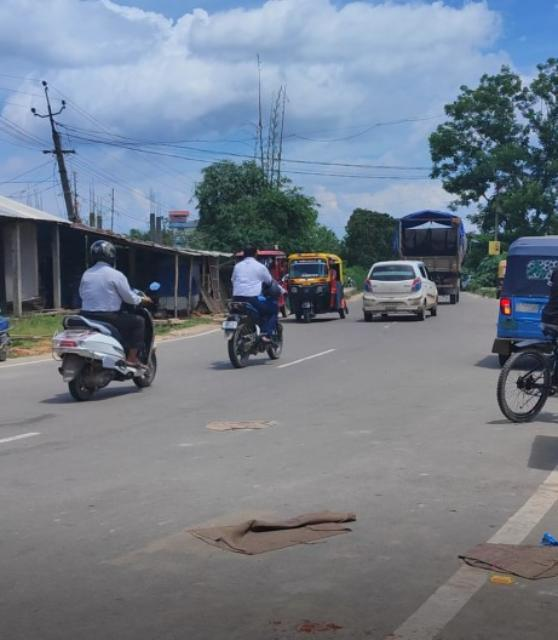licensePlate: (220, 321, 237, 330)
motorcycle: (50, 240, 158, 398), (219, 242, 285, 369)
withHelmet: (88, 242, 115, 266)
withoutHelmet: (242, 243, 259, 259)
